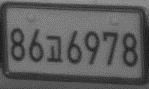6: (28, 27, 45, 63), (66, 29, 82, 64)
7: (100, 30, 119, 66)
8: (122, 31, 139, 68), (9, 26, 26, 61)
9: (83, 30, 101, 66)
고: (44, 34, 64, 64)
